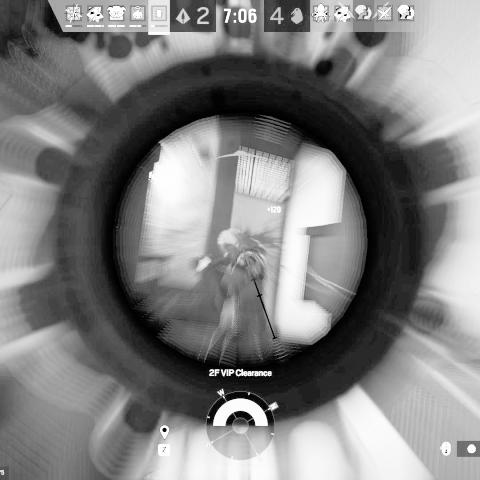Character: (190, 226, 280, 368)
Head: (219, 229, 248, 259)
